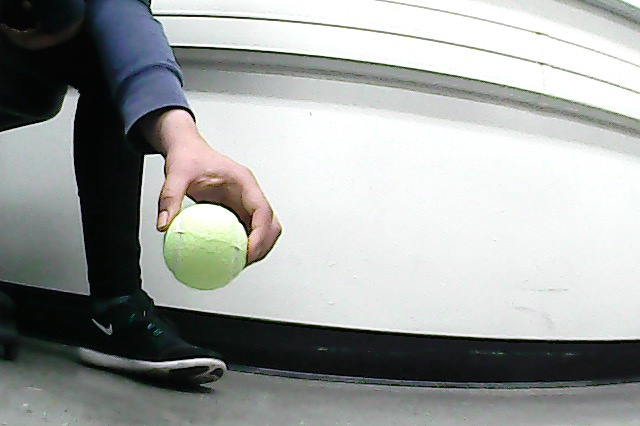ball: (164, 204, 248, 290)
